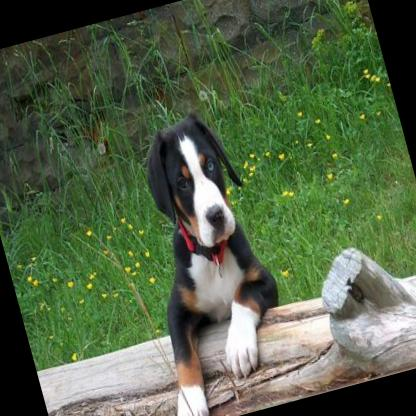Greater_Swiss_Mountain_dog: (98, 98, 305, 416)
